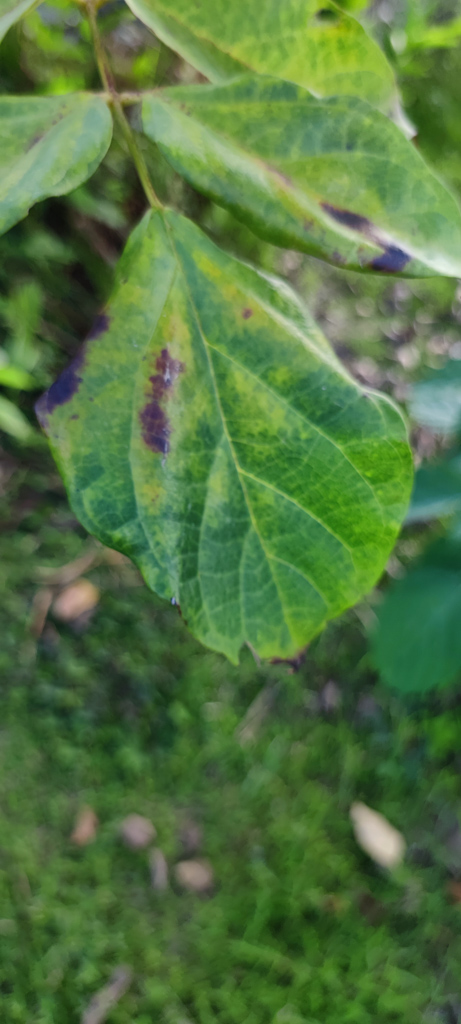Canker: (303, 179, 417, 282), (34, 305, 118, 435), (127, 336, 188, 466)
